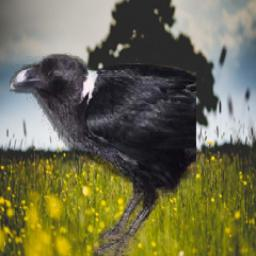Crow: (9, 53, 195, 256)
